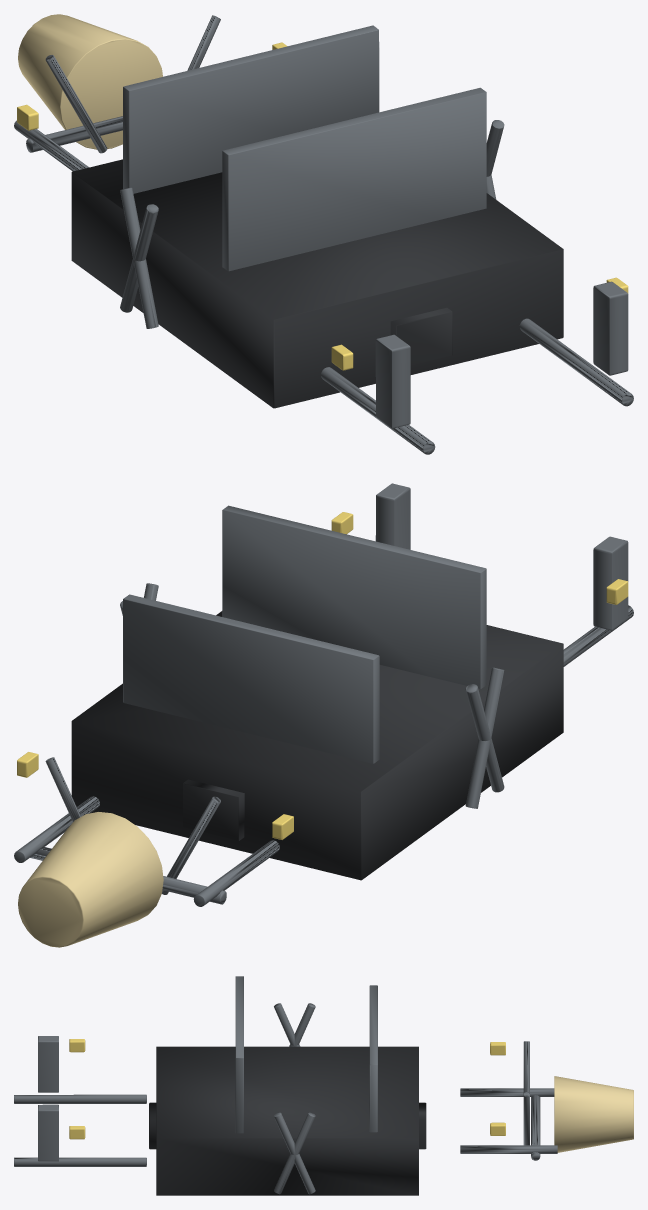
Rendered from supercar_monocoque_chassis_01.glb.
3 views of the same model, one above another, from view 1: azimuth 30°, elevation 25°; view 2: azimuth 150°, elevation 25°; view 3: azimuth 270°, elevation 25° (orthographic). The views are drawn at different scales.
Parts seen in each view (by area): view 1: Chassis_Carbon_Monocoque_Tub, Roll_Cage_Main_Hoop, Roll_Cage_Front_Hoop, Chassis_Crash_Attenuator_Cone, Rear_Damper_Tower_Right, Rear_Damper_Tower_Left, Chassis_Torque_Tunnel, Rear_Subframe_Cradle_Right, Roll_Cage_Door_XBar_Left_2, Rear_Subframe_Cradle_Left, Roll_Cage_Door_XBar_Left_1, Front_Subframe_Strut_Left (+3 smaller); view 2: Chassis_Carbon_Monocoque_Tub, Roll_Cage_Main_Hoop, Roll_Cage_Front_Hoop, Chassis_Crash_Attenuator_Cone, Chassis_Torque_Tunnel, Rear_Damper_Tower_Left, Rear_Damper_Tower_Right, Roll_Cage_Door_XBar_Left_1, Front_Subframe_Rail_Left, Roll_Cage_Door_XBar_Left_2, Front_Subframe_Rail_Right, Front_Subframe_Strut_Left (+3 smaller); view 3: Chassis_Carbon_Monocoque_Tub, Chassis_Crash_Attenuator_Cone, Roll_Cage_Main_Hoop, Roll_Cage_Front_Hoop, Rear_Subframe_Cradle_Left, Rear_Subframe_Cradle_Right, Rear_Damper_Tower_Right, Rear_Damper_Tower_Left, Front_Subframe_Rail_Right, Front_Subframe_Rail_Left, Chassis_Torque_Tunnel, Roll_Cage_Door_XBar_Right_2 (+6 smaller).
Boxes of the visible parts, <box> form: Chassis_Carbon_Monocoque_Tub: <box>71,159,563,408</box>; Roll_Cage_Main_Hoop: <box>222,87,486,271</box>; Roll_Cage_Front_Hoop: <box>123,25,379,193</box>; Chassis_Crash_Attenuator_Cone: <box>18,14,162,149</box>; Rear_Damper_Tower_Right: <box>593,281,628,375</box>; Rear_Damper_Tower_Left: <box>375,334,410,428</box>; Chassis_Torque_Tunnel: <box>390,307,452,365</box>; Rear_Subframe_Cradle_Right: <box>519,318,633,406</box>; Roll_Cage_Door_XBar_Left_2: <box>120,187,158,328</box>; Rear_Subframe_Cradle_Left: <box>321,367,435,454</box>; Roll_Cage_Door_XBar_Left_1: <box>120,204,158,312</box>; Front_Subframe_Strut_Left: <box>45,55,107,153</box>; Chassis_Carbon_Monocoque_Tub: <box>71,611,563,880</box>; Roll_Cage_Main_Hoop: <box>222,505,486,688</box>; Roll_Cage_Front_Hoop: <box>123,594,379,763</box>; Chassis_Crash_Attenuator_Cone: <box>18,812,163,947</box>; Chassis_Torque_Tunnel: <box>183,779,244,840</box>; Rear_Damper_Tower_Left: <box>593,536,628,630</box>; Rear_Damper_Tower_Right: <box>375,483,410,549</box>; Roll_Cage_Door_XBar_Left_1: <box>465,667,504,808</box>; Front_Subframe_Rail_Left: <box>193,840,279,906</box>; Roll_Cage_Door_XBar_Left_2: <box>465,684,504,792</box>; Front_Subframe_Rail_Right: <box>14,796,99,862</box>; Front_Subframe_Strut_Left: <box>162,796,220,894</box>; Chassis_Carbon_Monocoque_Tub: <box>156,1046,418,1195</box>; Chassis_Crash_Attenuator_Cone: <box>554,1076,633,1152</box>; Roll_Cage_Main_Hoop: <box>235,976,243,1133</box>; Roll_Cage_Front_Hoop: <box>369,985,377,1132</box>; Rear_Subframe_Cradle_Left: <box>14,1094,146,1103</box>; Rear_Subframe_Cradle_Right: <box>14,1157,146,1166</box>; Rear_Damper_Tower_Right: <box>38,1104,58,1161</box>; Rear_Damper_Tower_Left: <box>38,1036,58,1092</box>; Front_Subframe_Rail_Right: <box>460,1145,557,1153</box>; Front_Subframe_Rail_Left: <box>460,1088,554,1096</box>; Chassis_Torque_Tunnel: <box>149,1102,426,1149</box>; Roll_Cage_Door_XBar_Right_2: <box>274,1112,315,1194</box>.
Bounding box in the file's own units: 1.51 × 0.8291 × 3.5.
